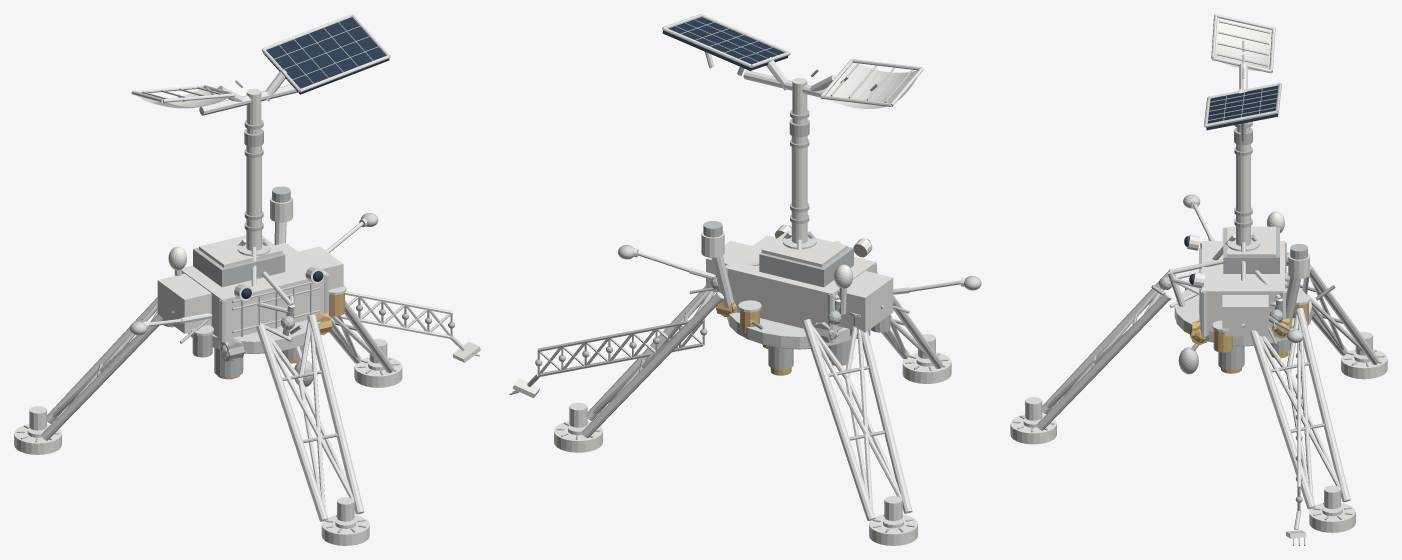
Rendered from surveyor-3.glb.
3 renders of one model, left to right at view 1: azimuth 30°, elevation 25°; view 2: azimuth 150°, elevation 25°; view 3: azimuth 270°, elevation 25°, orthographic. The views are drawn at different scales.
Parts seen in each view (by area): view 1: Primary white structure, White instrument housings, Silver thermal hardware, Solar array and dark components, Antenna and sensor details, Gold thermal hardware; view 2: Primary white structure, White instrument housings, Silver thermal hardware, Solar array and dark components, Antenna and sensor details, Gold thermal hardware; view 3: Primary white structure, White instrument housings, Silver thermal hardware, Solar array and dark components, Antenna and sensor details, Gold thermal hardware.
Boxes of the visible parts, x1,y1,x2,y2 form: Primary white structure: [27, 14, 465, 528]; White instrument housings: [14, 88, 480, 545]; Silver thermal hardware: [16, 22, 479, 532]; Solar array and dark components: [241, 17, 389, 298]; Antenna and sensor details: [129, 80, 378, 387]; Gold thermal hardware: [217, 293, 344, 379]; Primary white structure: [527, 14, 960, 528]; White instrument housings: [512, 62, 965, 545]; Silver thermal hardware: [509, 19, 948, 532]; Solar array and dark components: [662, 17, 870, 242]; Antenna and sensor details: [618, 63, 981, 290]; Gold thermal hardware: [716, 300, 846, 375]; Primary white structure: [1023, 14, 1379, 529]; White instrument housings: [1010, 18, 1387, 538]; Silver thermal hardware: [1013, 87, 1384, 545]; Solar array and dark components: [1184, 85, 1278, 284]; Antenna and sensor details: [1178, 20, 1303, 374]; Gold thermal hardware: [1190, 303, 1308, 373].
Bounding box in the file's own units: 4.72 × 4.22 × 3.73.
